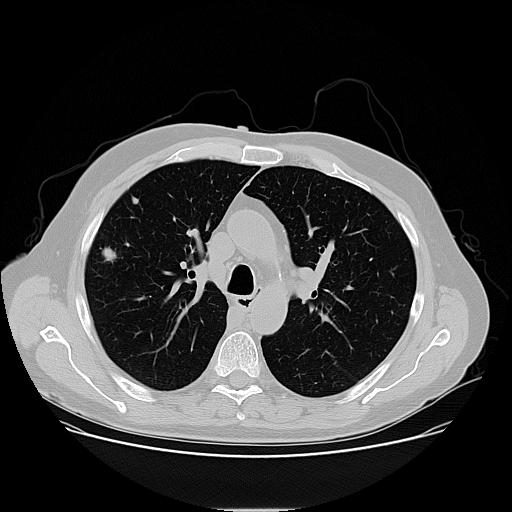nodule: (130, 195, 141, 206)
